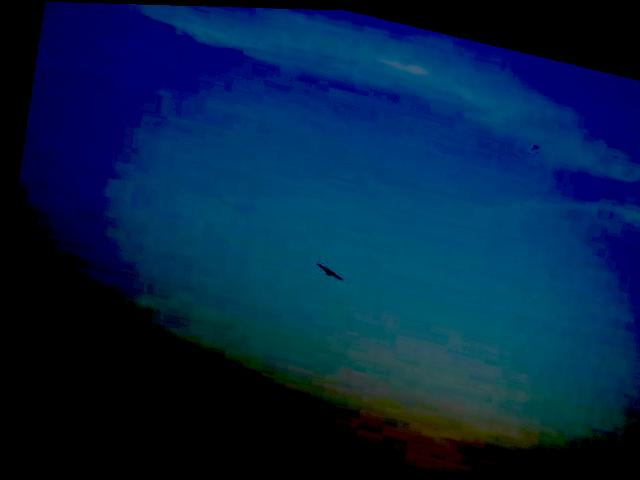uav: (306, 250, 347, 287)
